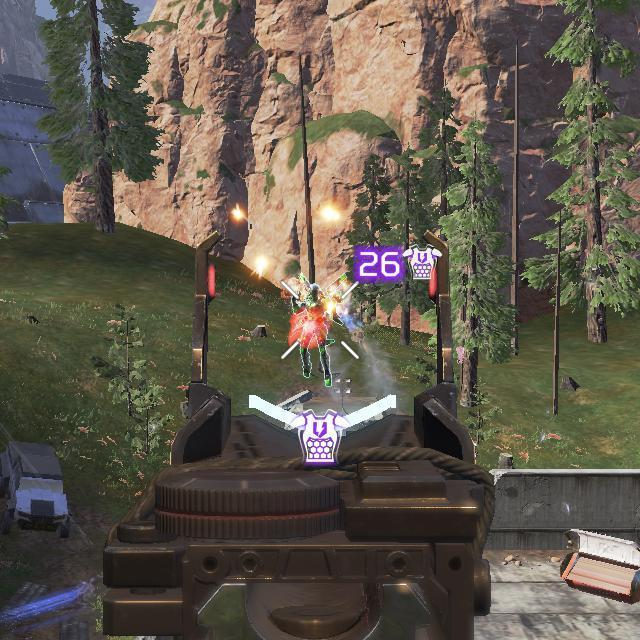avatar: (289, 281, 335, 388)
object: (287, 305, 332, 349)
